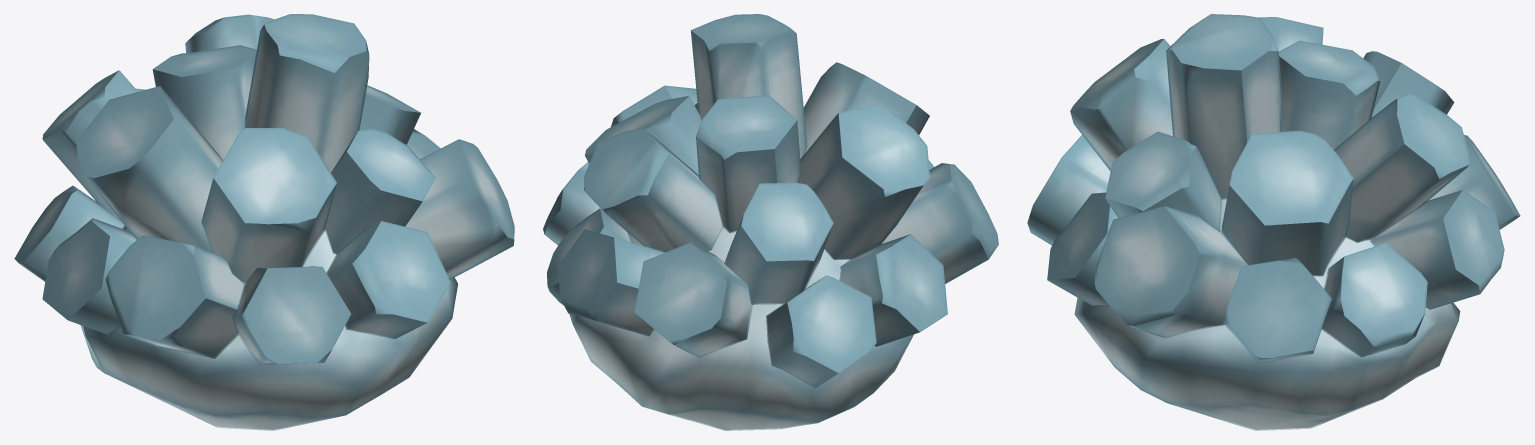
Rendered from ground_un_dlc2_a_w23_gem01.gltf.
3 renders of one model, left to right at view 1: azimuth 30°, elevation 25°; view 2: azimuth 150°, elevation 25°; view 3: azimuth 270°, elevation 25°, orthographic. The views are drawn at different scales.
Parts seen in each view (by area): view 1: nomerge_gem_mesh_shape:crystal03_out, nomerge_gem_mesh_shape:crystal01_in; view 2: nomerge_gem_mesh_shape:crystal03_out, nomerge_gem_mesh_shape:crystal01_in; view 3: nomerge_gem_mesh_shape:crystal03_out, nomerge_gem_mesh_shape:crystal01_in.
Part boxes in pixels (<box>): nomerge_gem_mesh_shape:crystal03_out: <box>14,14,514,430</box>; nomerge_gem_mesh_shape:crystal01_in: <box>22,18,510,429</box>; nomerge_gem_mesh_shape:crystal03_out: <box>543,14,998,430</box>; nomerge_gem_mesh_shape:crystal01_in: <box>550,18,992,429</box>; nomerge_gem_mesh_shape:crystal03_out: <box>1027,14,1520,430</box>; nomerge_gem_mesh_shape:crystal01_in: <box>1043,18,1514,429</box>.
Size of what is drawn, in the model's own units: 5.95 by 5.32 by 6.21.
Materials: 2 (1 with a texture image).
